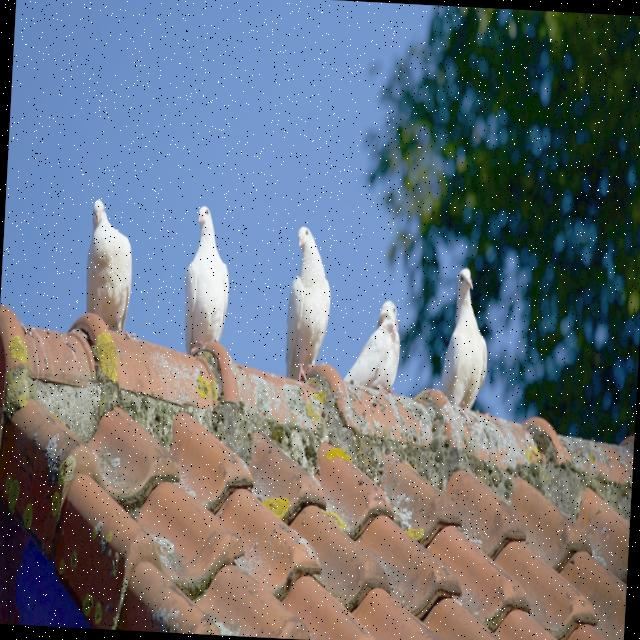bird: (282, 224, 336, 384), (436, 266, 494, 414), (180, 203, 233, 359), (82, 198, 137, 336), (341, 298, 404, 396)
